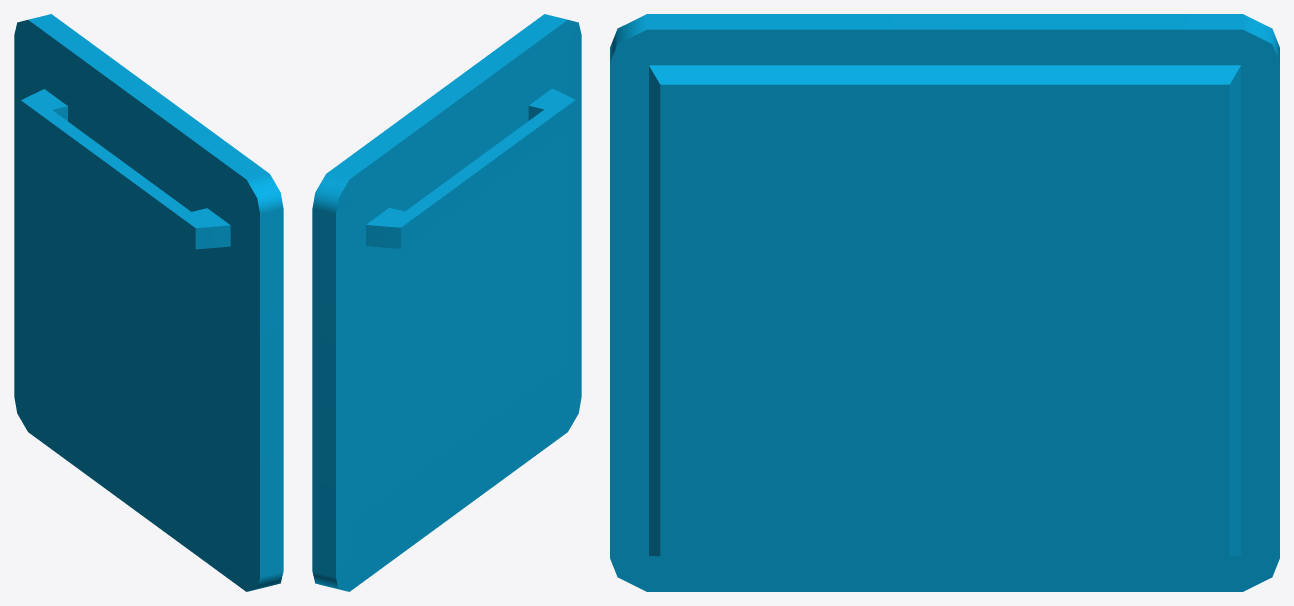
File: Restaurant_Electric_Oven_Door_Lod1.fbx
The picture shows the model from 3 angles, left to right: view 1: azimuth 30°, elevation 25°; view 2: azimuth 150°, elevation 25°; view 3: azimuth 270°, elevation 25°; orthographic projection. The views are drawn at different scales.
Visible parts, largest first — view 1: Restaurant_Electric_Oven_Door_Lod1; view 2: Restaurant_Electric_Oven_Door_Lod1; view 3: Restaurant_Electric_Oven_Door_Lod1.
Boxes of the visible parts, left/top/right/bottom form: Restaurant_Electric_Oven_Door_Lod1: left=14, top=14, right=283, bottom=591; Restaurant_Electric_Oven_Door_Lod1: left=312, top=14, right=581, bottom=591; Restaurant_Electric_Oven_Door_Lod1: left=610, top=14, right=1279, bottom=591.
Size of the model in its own units: 8.53 by 49.79 by 53.76.
